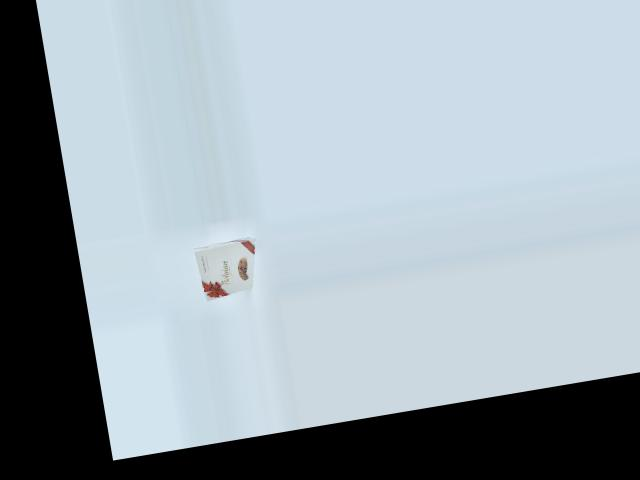chocolate: (192, 224, 266, 302)
